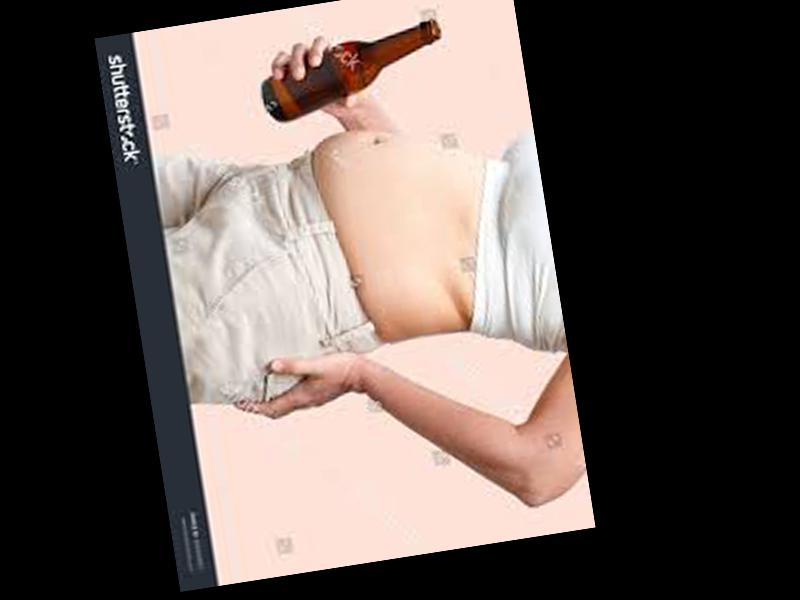Beer: (252, 18, 449, 129)
